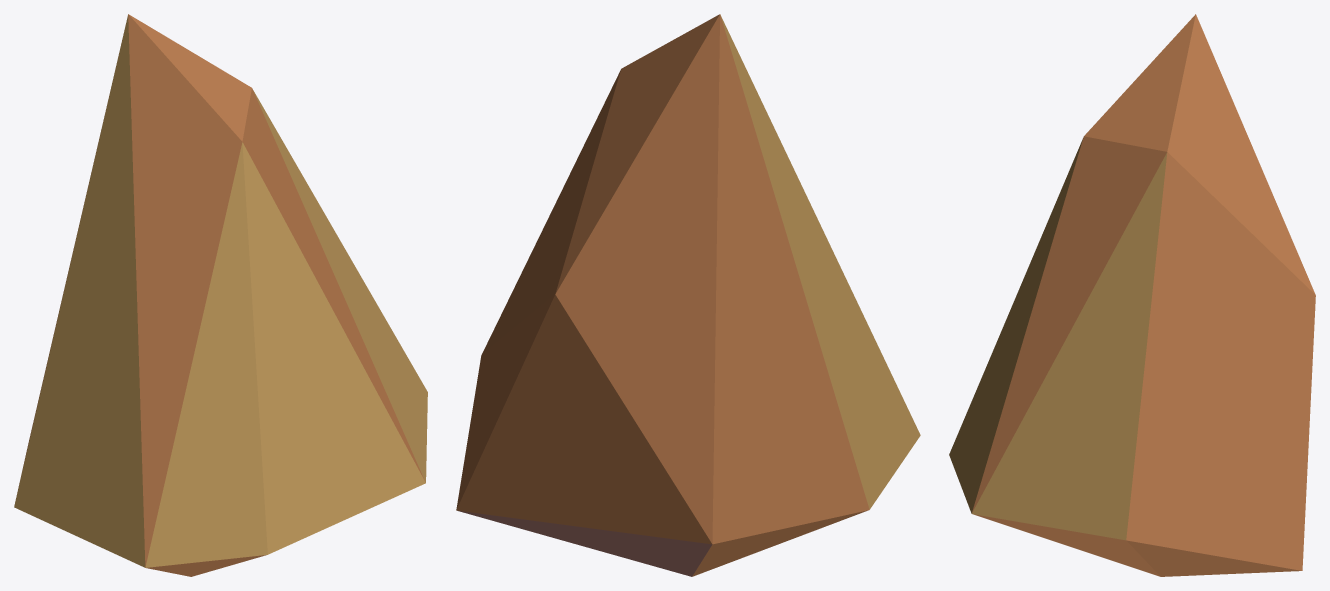
File: PineTree_Autumn_1.lod4.glb
3 renders of one model, left to right at view 1: azimuth 30°, elevation 25°; view 2: azimuth 150°, elevation 25°; view 3: azimuth 270°, elevation 25°, orthographic. The views are drawn at different scales.
Visible parts, largest first — view 1: PineTree_Autumn_1; view 2: PineTree_Autumn_1; view 3: PineTree_Autumn_1.
Boxes of the visible parts, x1=… form: PineTree_Autumn_1: x1=14, y1=14, x2=427, y2=576; PineTree_Autumn_1: x1=456, y1=14, x2=920, y2=576; PineTree_Autumn_1: x1=949, y1=14, x2=1315, y2=576.
Bounding box in the file's own units: 2.04 × 2.79 × 1.71.
